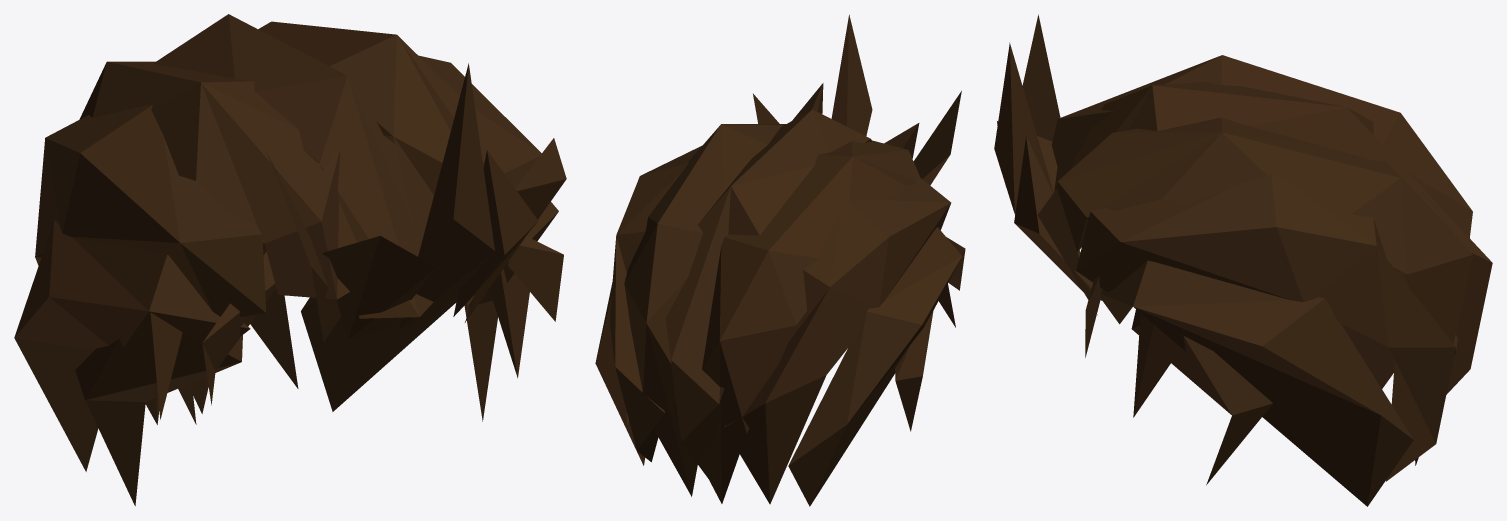
Rendered from hair-spiky.low.e0fe0252.glb.
The picture shows the model from 3 angles, left to right: view 1: azimuth 30°, elevation 25°; view 2: azimuth 150°, elevation 25°; view 3: azimuth 270°, elevation 25°; orthographic projection. The views are drawn at different scales.
Visible parts, largest first — view 1: hair-spiky; view 2: hair-spiky; view 3: hair-spiky.
Part boxes in pixels (x1,y1,x2,y2): hair-spiky: (14, 14, 566, 505); hair-spiky: (595, 14, 965, 506); hair-spiky: (994, 14, 1492, 506).
Bounding box in the file's own units: 0.2255 × 0.2542 × 0.2665.
